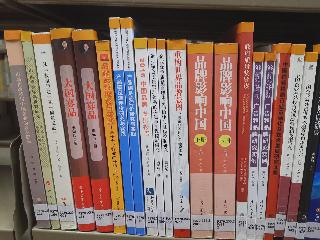book-spine: (48, 28, 97, 235), (3, 28, 51, 232), (30, 29, 77, 232), (73, 29, 115, 235), (20, 29, 61, 232), (281, 50, 319, 240), (271, 44, 306, 240), (96, 39, 127, 235), (109, 17, 136, 235), (184, 43, 214, 239), (119, 18, 146, 235), (261, 42, 289, 240), (211, 43, 238, 239), (132, 38, 158, 237), (293, 53, 320, 240), (168, 39, 191, 239), (242, 50, 265, 239), (253, 51, 275, 240), (234, 22, 253, 240), (148, 37, 166, 239), (156, 39, 173, 237)
